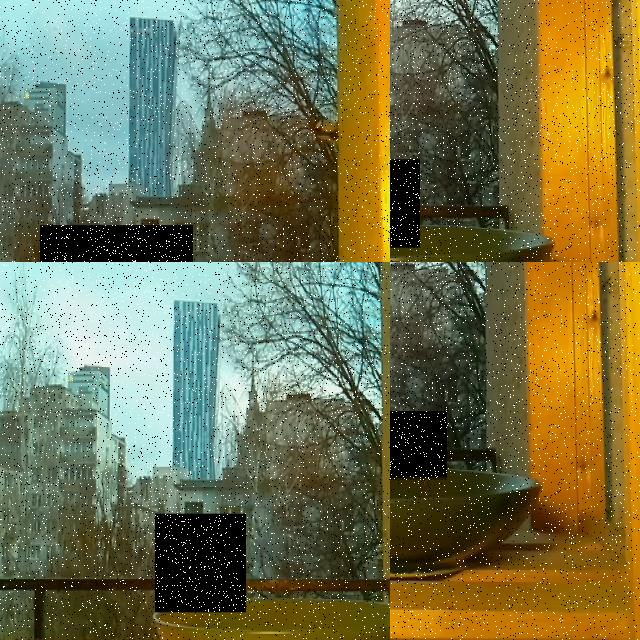Modraszka: (155, 514, 246, 612)
Wrobel: (40, 225, 193, 262), (390, 411, 447, 479), (390, 159, 420, 247)
